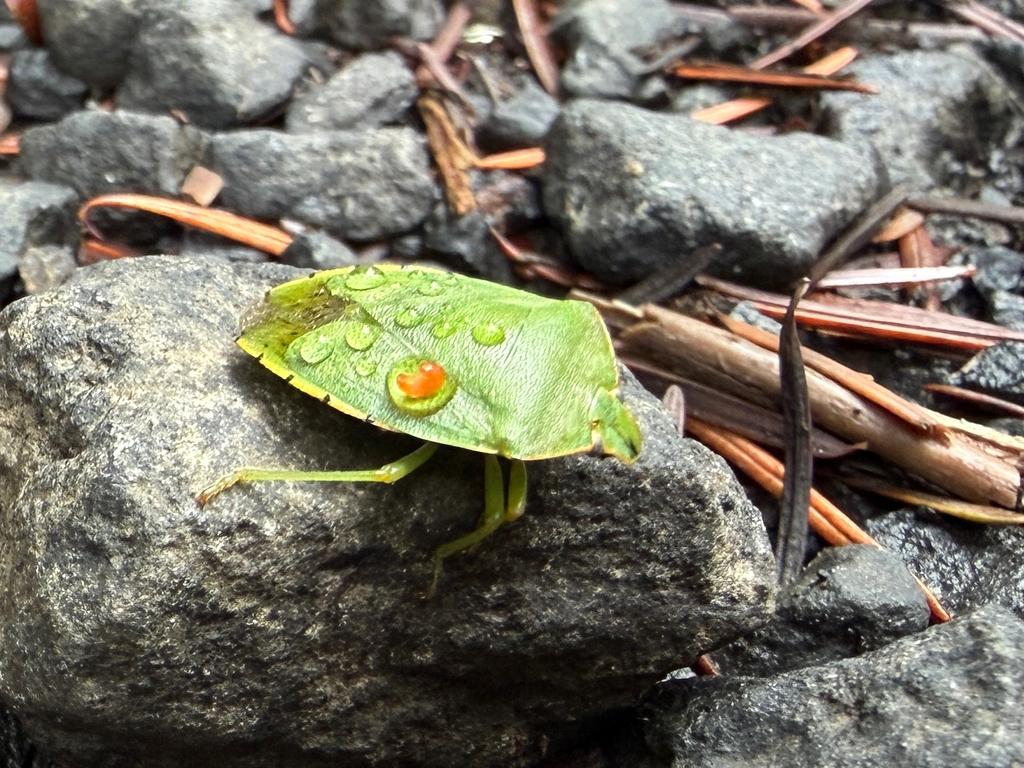stink_bugs: (145, 152, 745, 621)
